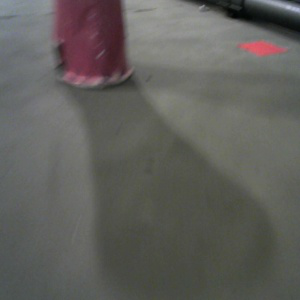right: (53, 1, 134, 88)
